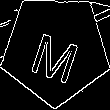M_N: (26, 18, 84, 81)
